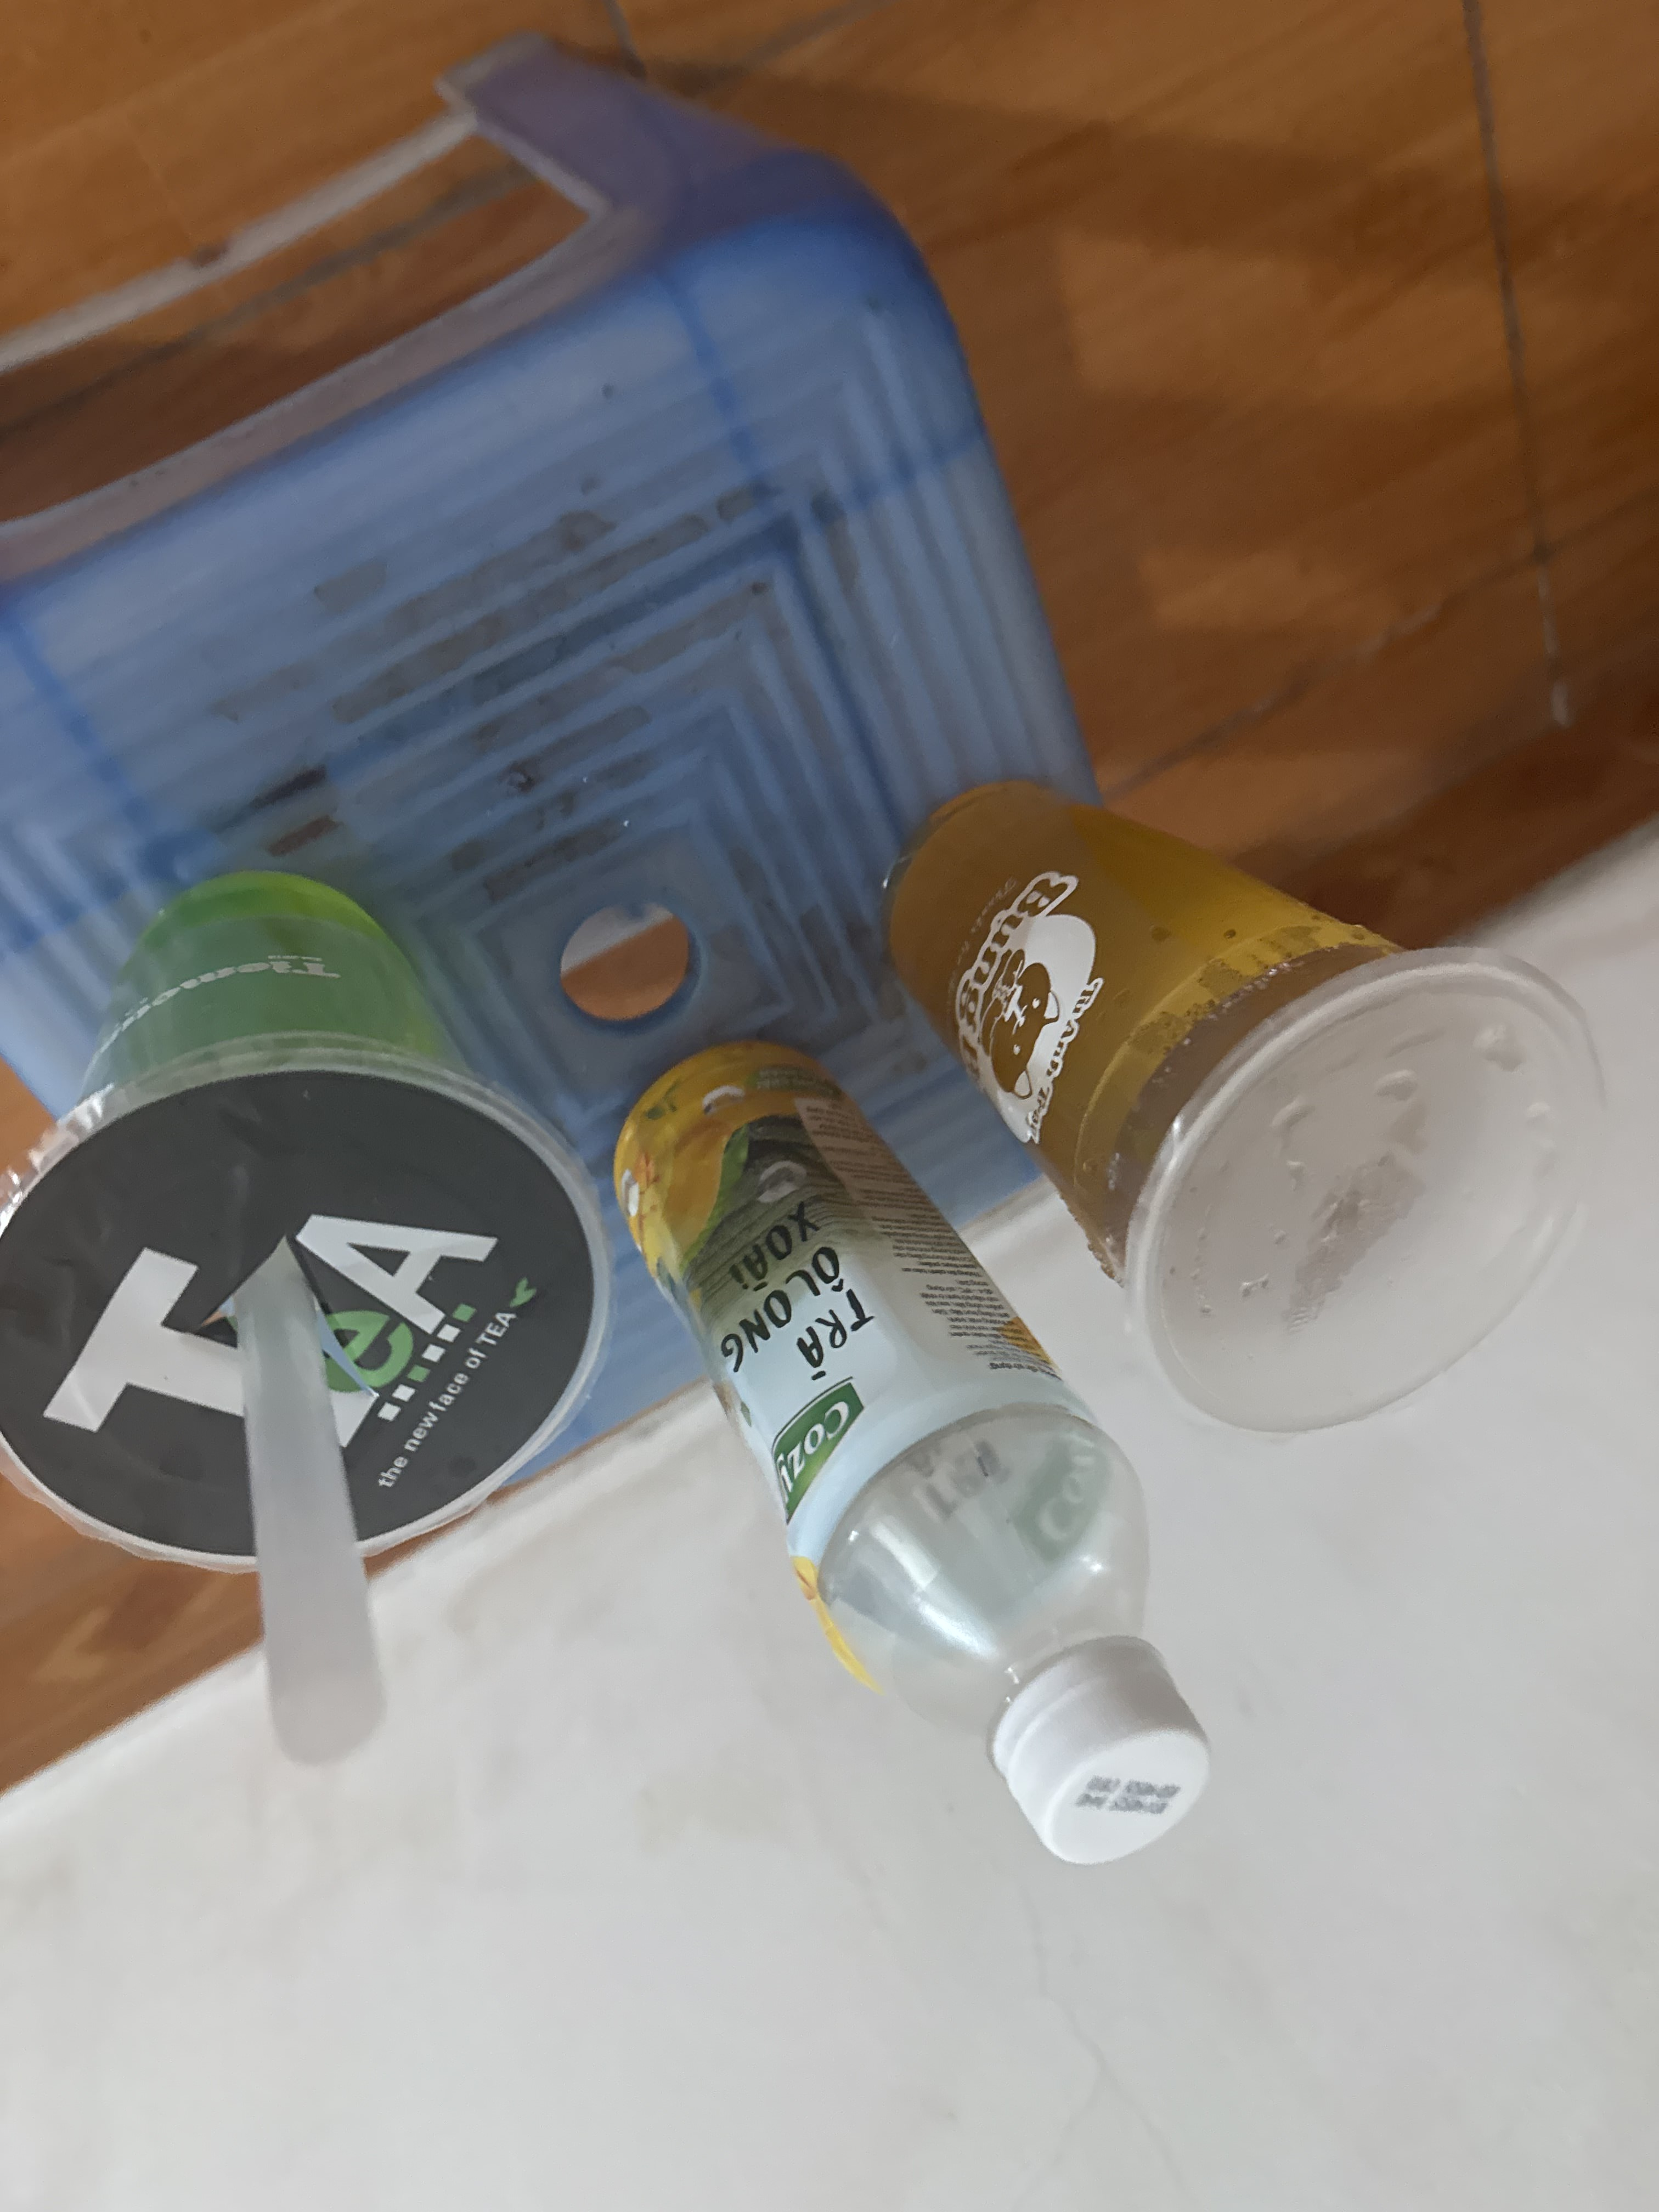bottle: (537, 1024, 1300, 1939)
cup: (0, 789, 612, 1794), (866, 683, 1624, 1442)
